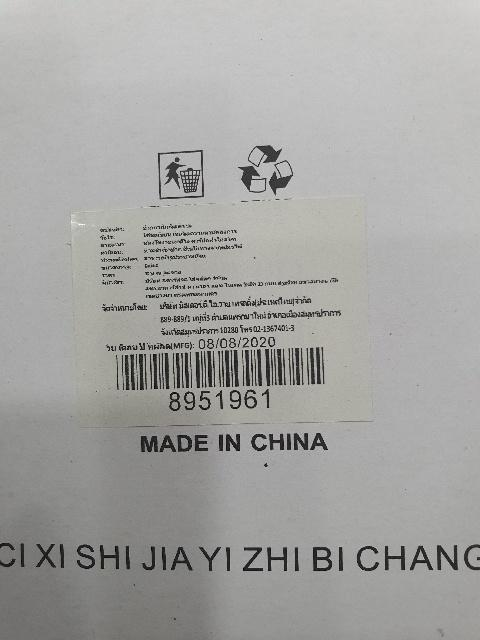Barcode: (106, 341, 337, 414)
